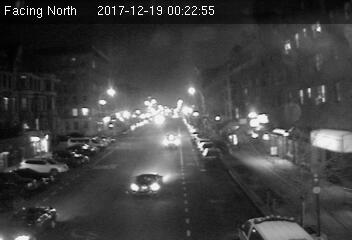car: (128, 171, 163, 196), (201, 147, 222, 164), (160, 131, 180, 147)
police: (234, 213, 314, 240)
